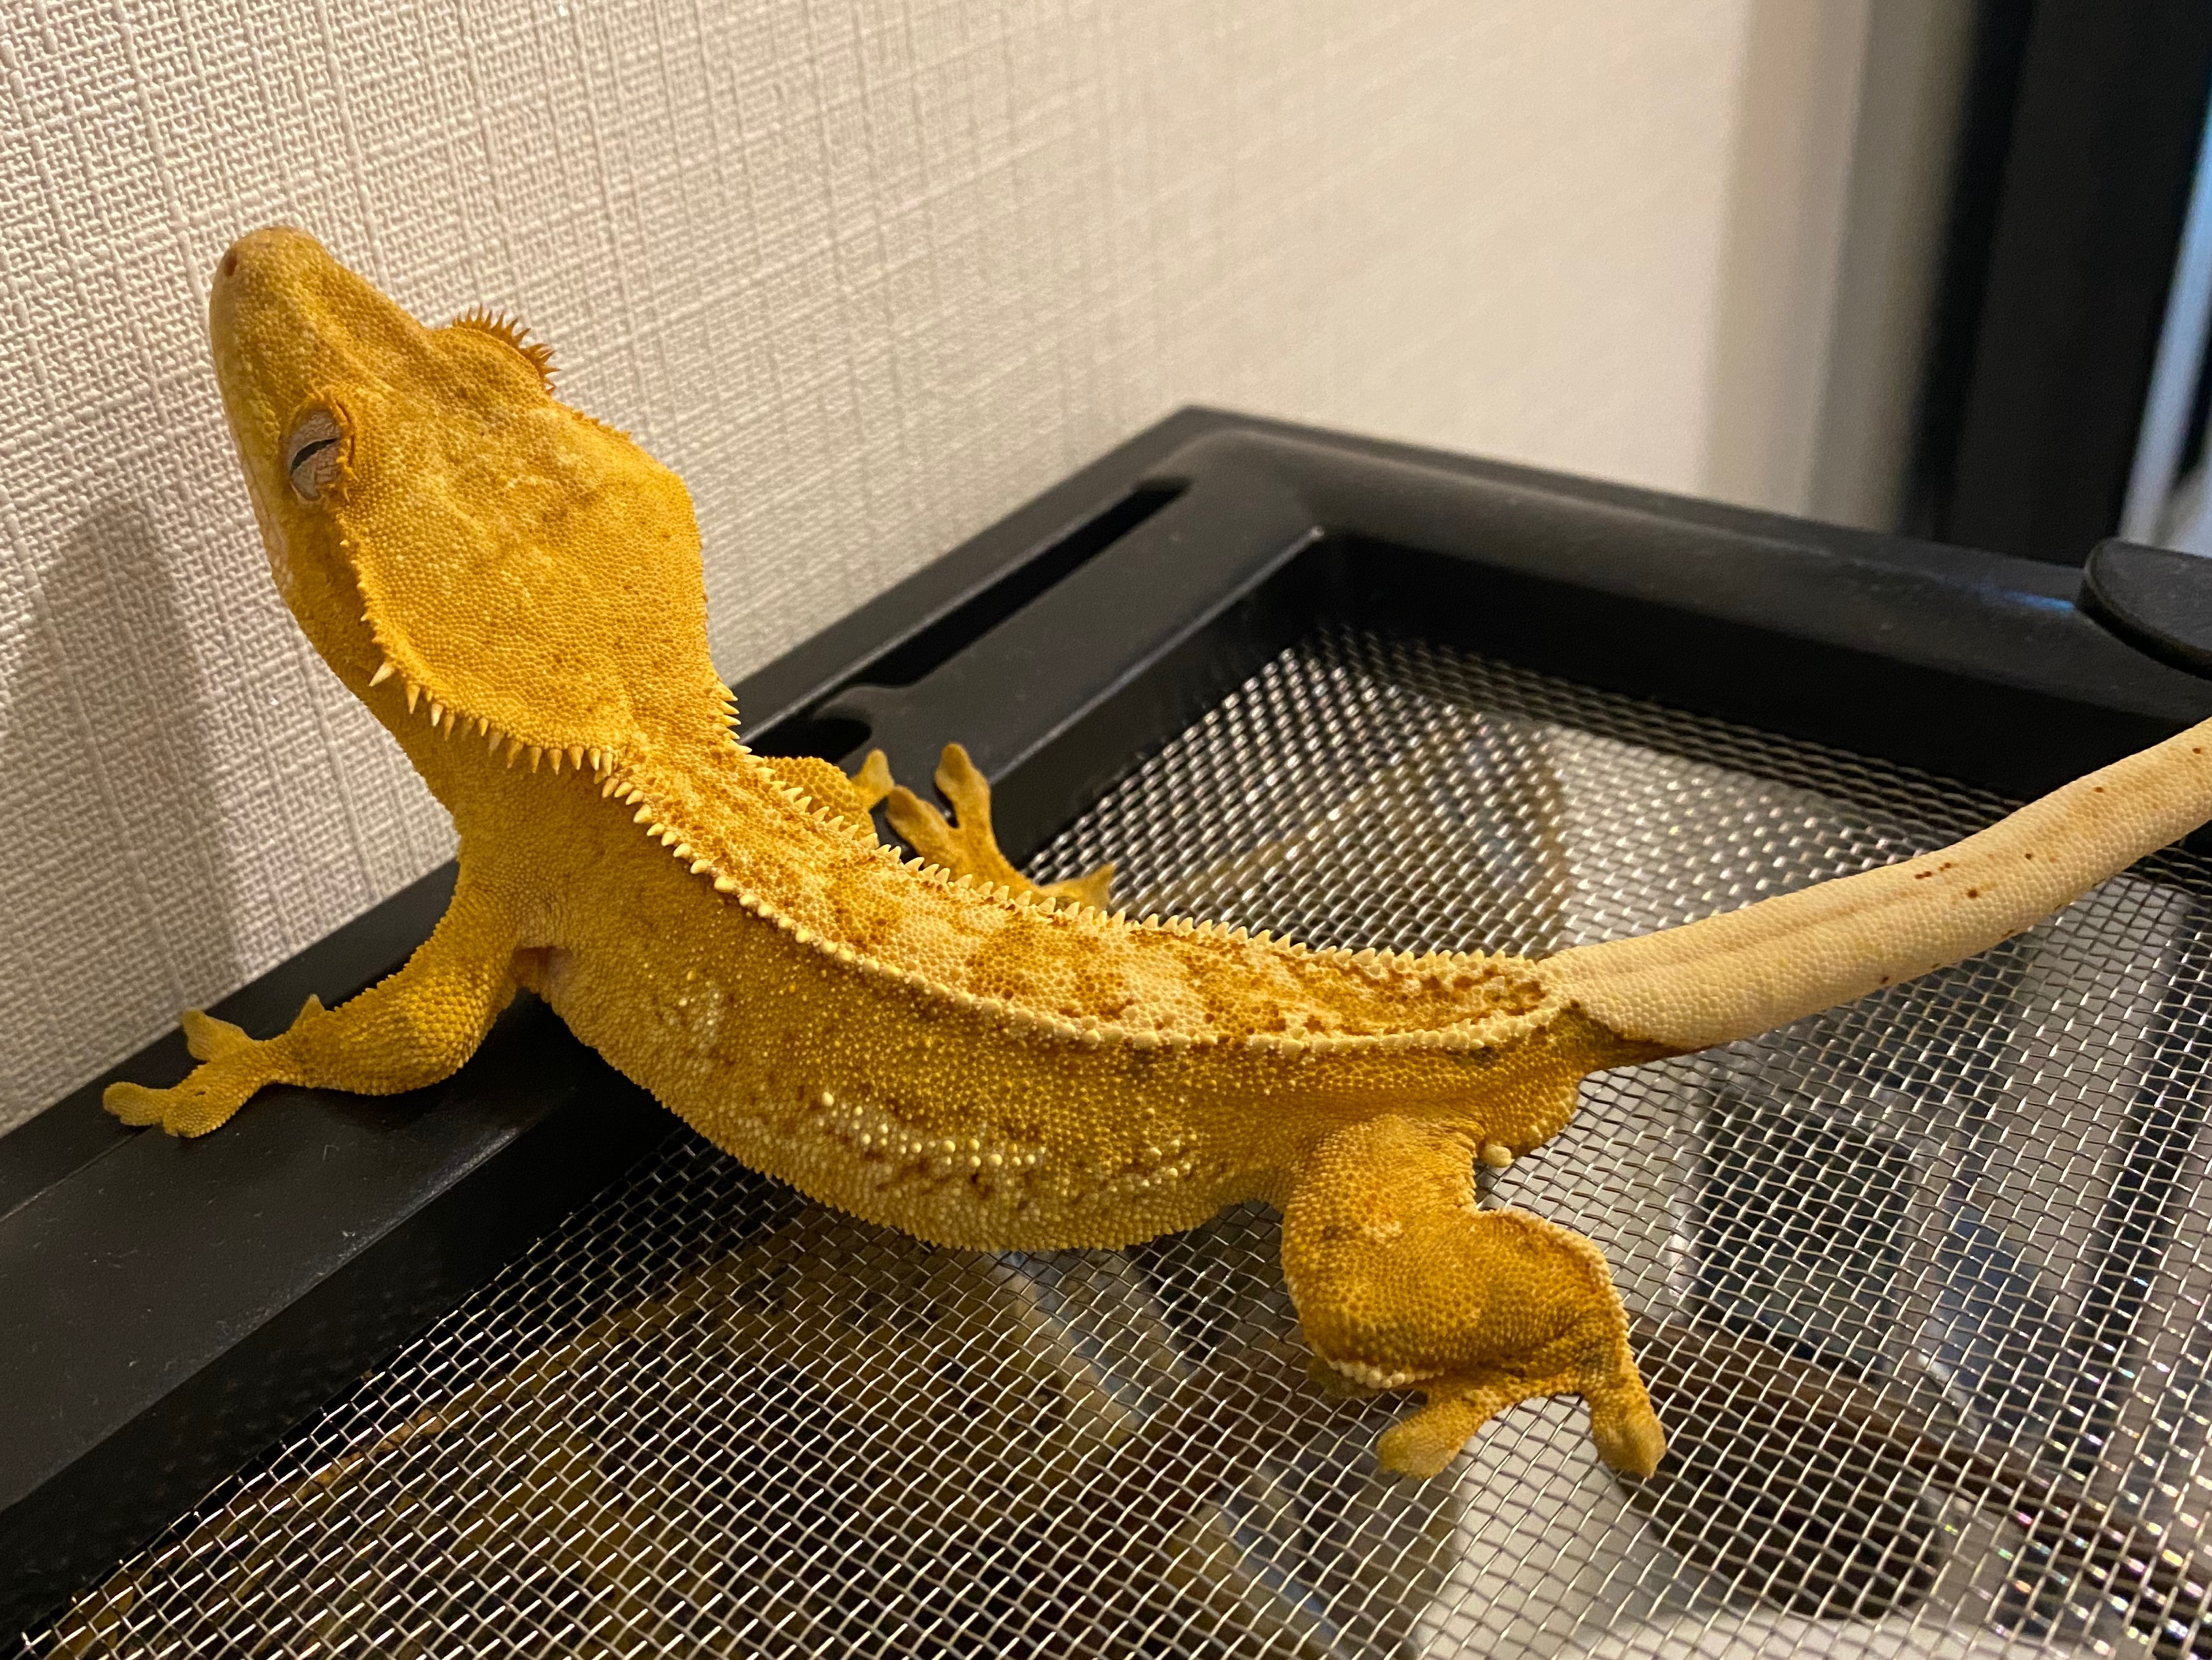analyzer_lateral: (474, 781, 1569, 1242)
